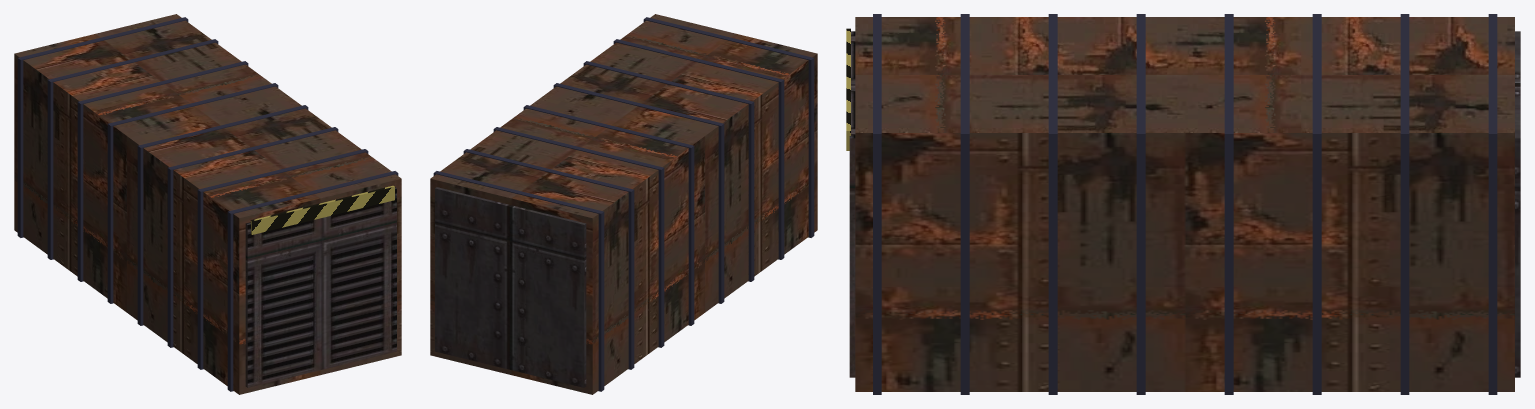
File: prop_cargo_container.glb
The picture shows the model from 3 angles, left to right: view 1: azimuth 30°, elevation 25°; view 2: azimuth 150°, elevation 25°; view 3: azimuth 270°, elevation 25°; orthographic projection. The views are drawn at different scales.
Parts seen in each view (by area): view 1: prop_cargo_container; view 2: prop_cargo_container; view 3: prop_cargo_container.
Boxes of the visible parts, box(x1,y1,x2,y2) form: prop_cargo_container: box(14, 14, 401, 394); prop_cargo_container: box(430, 14, 817, 394); prop_cargo_container: box(846, 14, 1520, 394).
Size of the model in its own units: 2.58 by 2.62 by 6.13.
5 materials, 4 textured.
